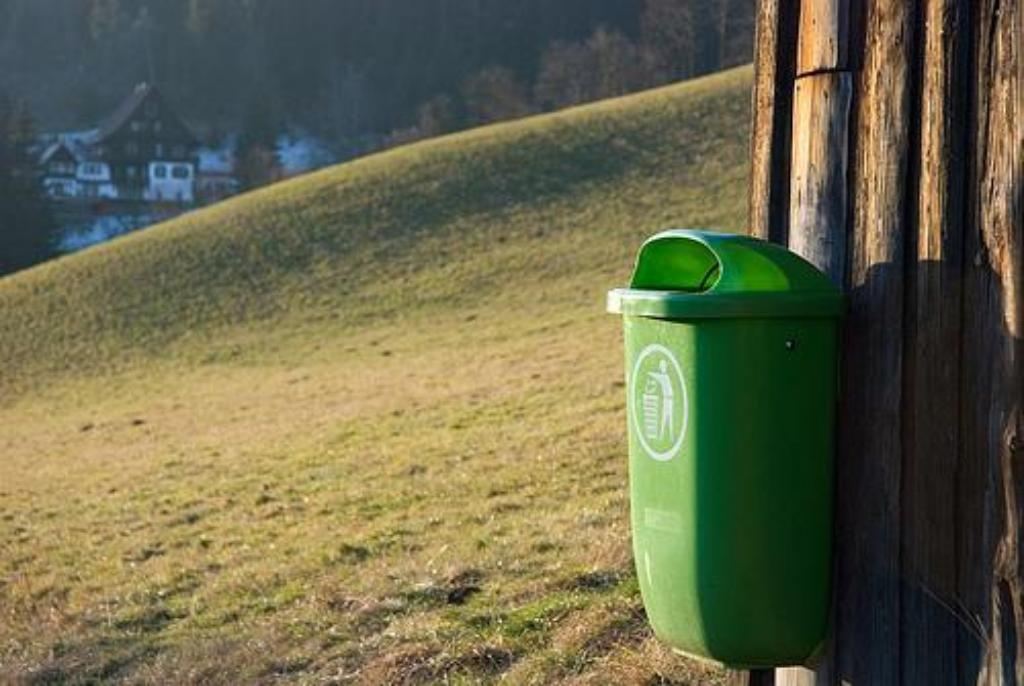dustbin: (607, 227, 845, 669)
